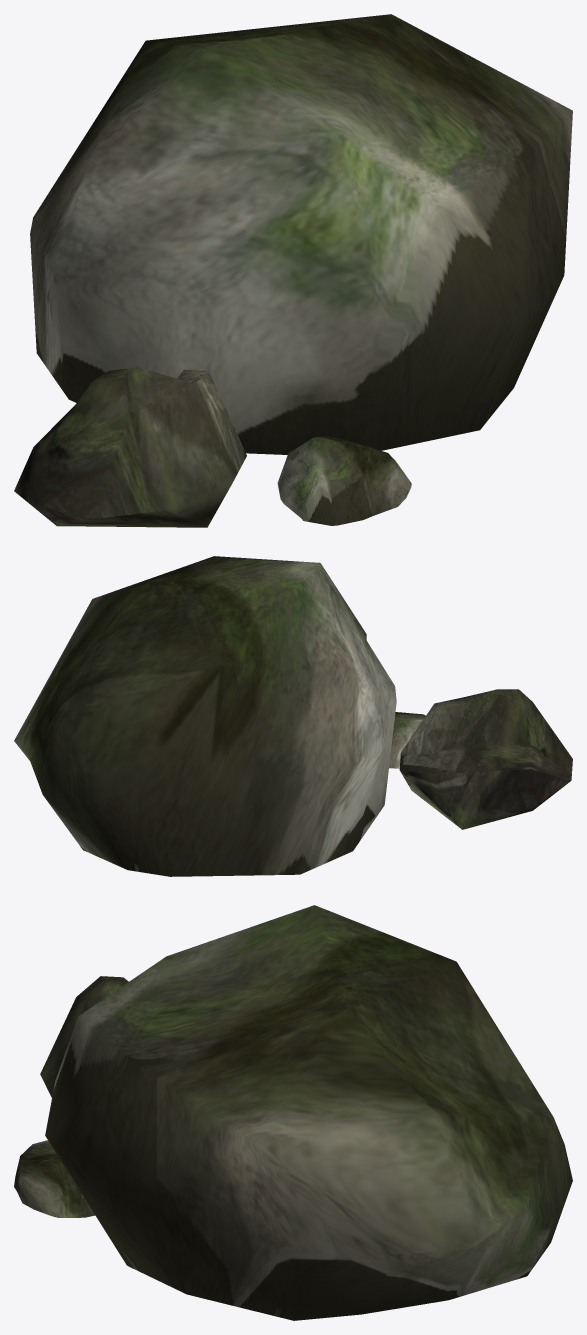
The model's file is zz_dont_use_rocks_LT_group_3G.fbx.
3 renders of one model, top to bottom at view 1: azimuth 30°, elevation 25°; view 2: azimuth 150°, elevation 25°; view 3: azimuth 270°, elevation 25°, orthographic. The views are drawn at different scales.
Parts seen in each view (by area): view 1: rock_1_High, rock_2_High, rock_3_High; view 2: rock_1_High, rock_2_High, rock_3_High; view 3: rock_1_High, rock_3_High, rock_2_High.
Part boxes in pixels (box(x1,y1,x2,y2)): rock_1_High: box(30, 14, 572, 454); rock_2_High: box(14, 367, 246, 527); rock_3_High: box(277, 435, 411, 525); rock_1_High: box(14, 556, 396, 876); rock_2_High: box(399, 689, 572, 829); rock_3_High: box(389, 712, 425, 768); rock_1_High: box(45, 905, 572, 1320); rock_3_High: box(14, 1140, 95, 1217); rock_2_High: box(40, 976, 128, 1097).
Bounding box in the file's own units: 596 × 305 × 528.
1 material, 1 textured.
